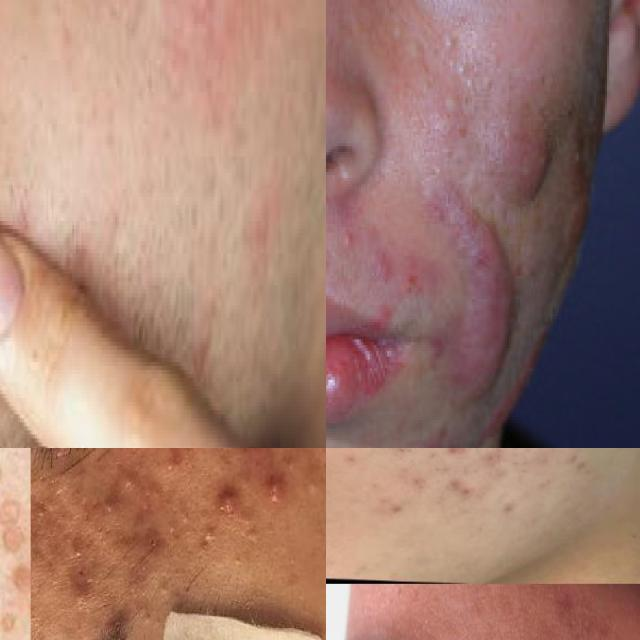acne_scars: (432, 469, 475, 504), (434, 448, 473, 458)
comedone: (157, 493, 204, 552), (295, 449, 326, 510), (219, 535, 253, 587), (134, 594, 170, 636), (96, 488, 123, 518)
flat_wart: (0, 479, 30, 567), (0, 555, 30, 631), (0, 571, 24, 640)
papule: (114, 459, 144, 498)
sebo-crystan-conglo: (204, 472, 249, 530), (59, 568, 102, 627), (258, 467, 288, 520)
